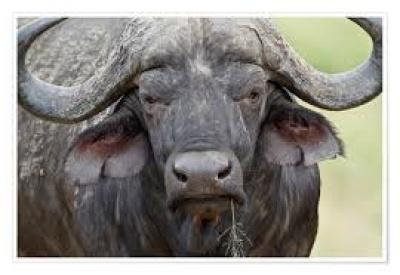buffalo: (16, 17, 383, 258)
